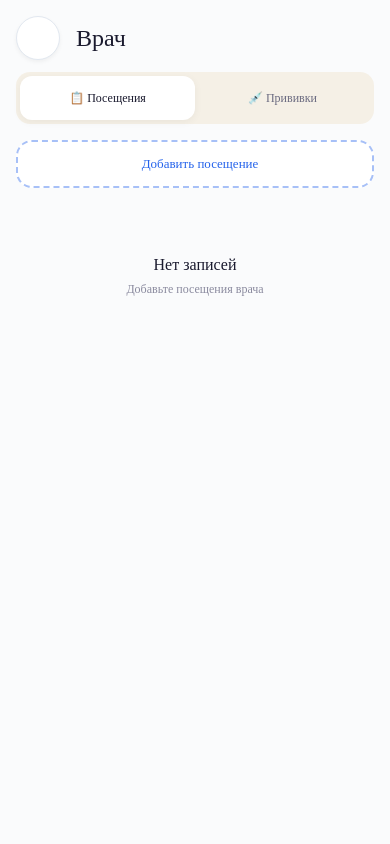
DoctorScreen › renders visits tab by default and allows showing add form
Expected: the text "Врач" is shown, [76,24,126,52]
Expected: the text "📋 Посещения" is shown, [69,90,146,106]
Click the text "Добавить посещение": (200, 164) [142,156,258,172]
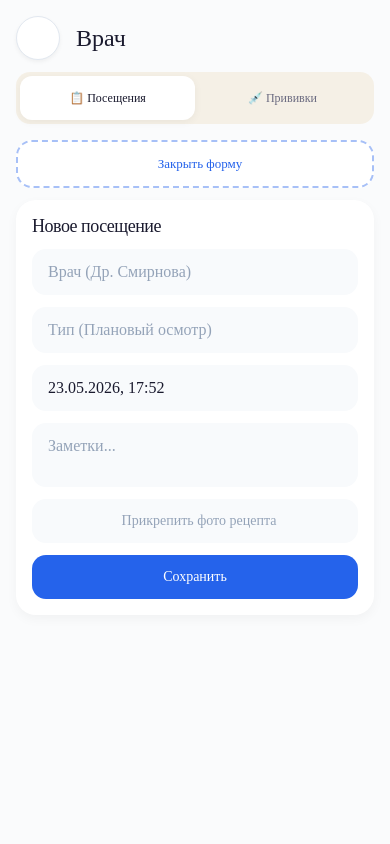
Now the field with placeholder "Врач (Др. Смирнова)" is shown, box [32,249,358,295]
